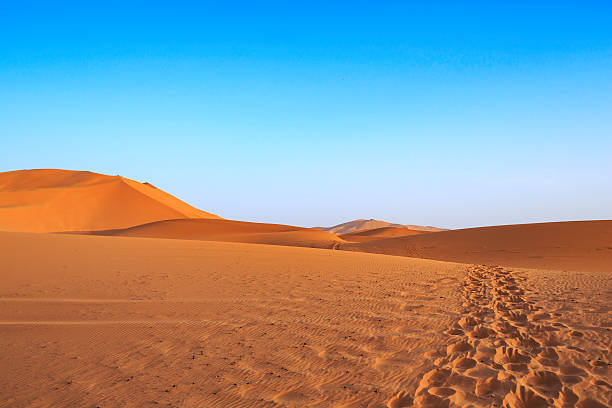human_foot_print: (387, 265, 611, 407)
